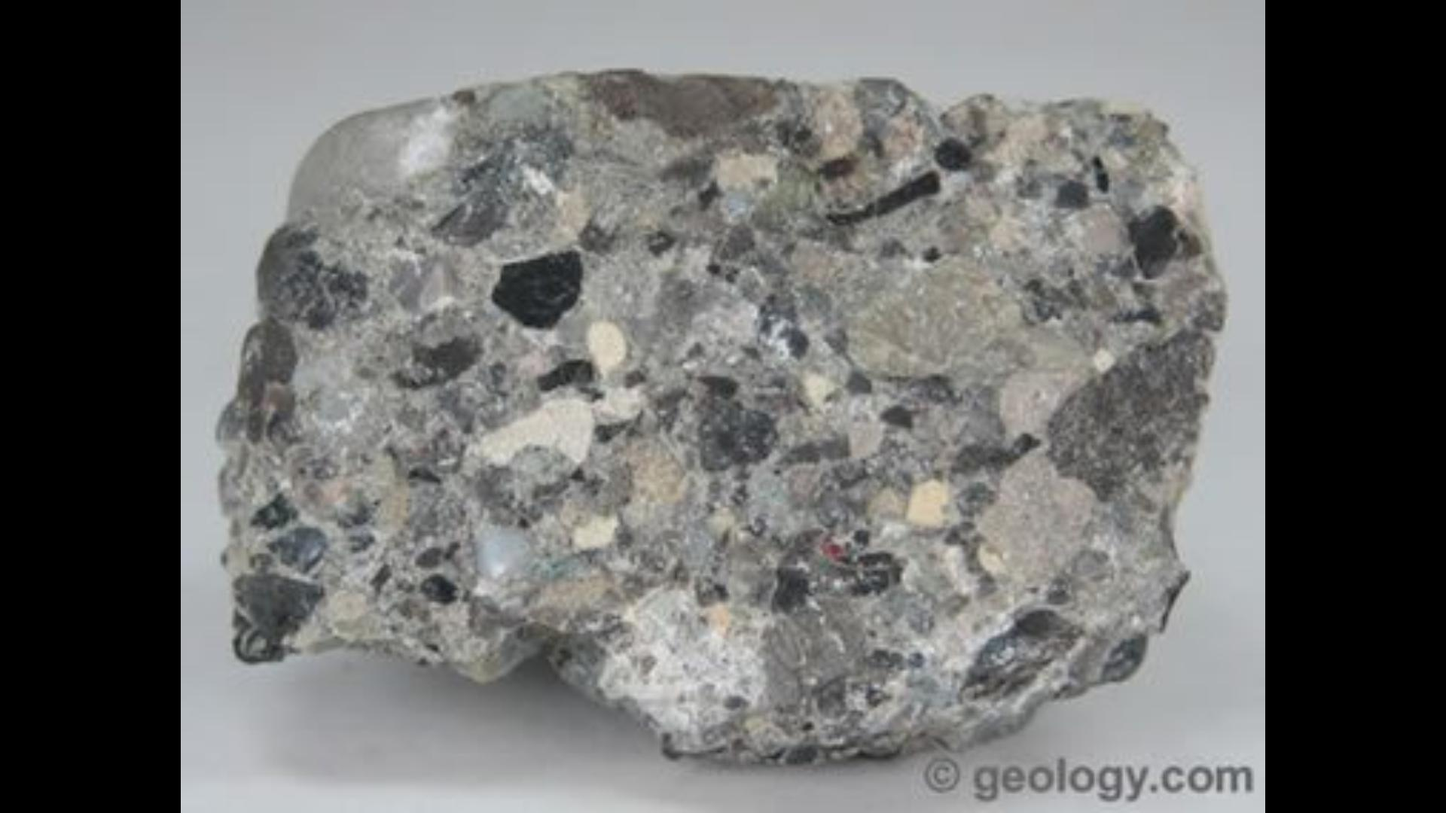rock: (218, 71, 1225, 762)
